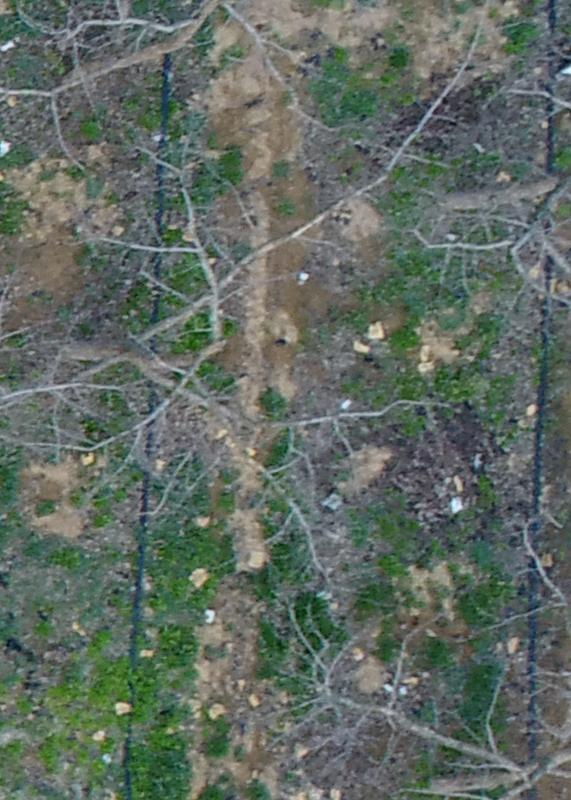apple: (10, 139, 425, 592), (10, 10, 367, 178), (260, 598, 561, 790)
